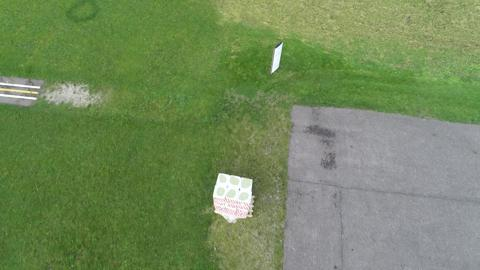RockwoolPallet: (211, 175, 253, 222)
